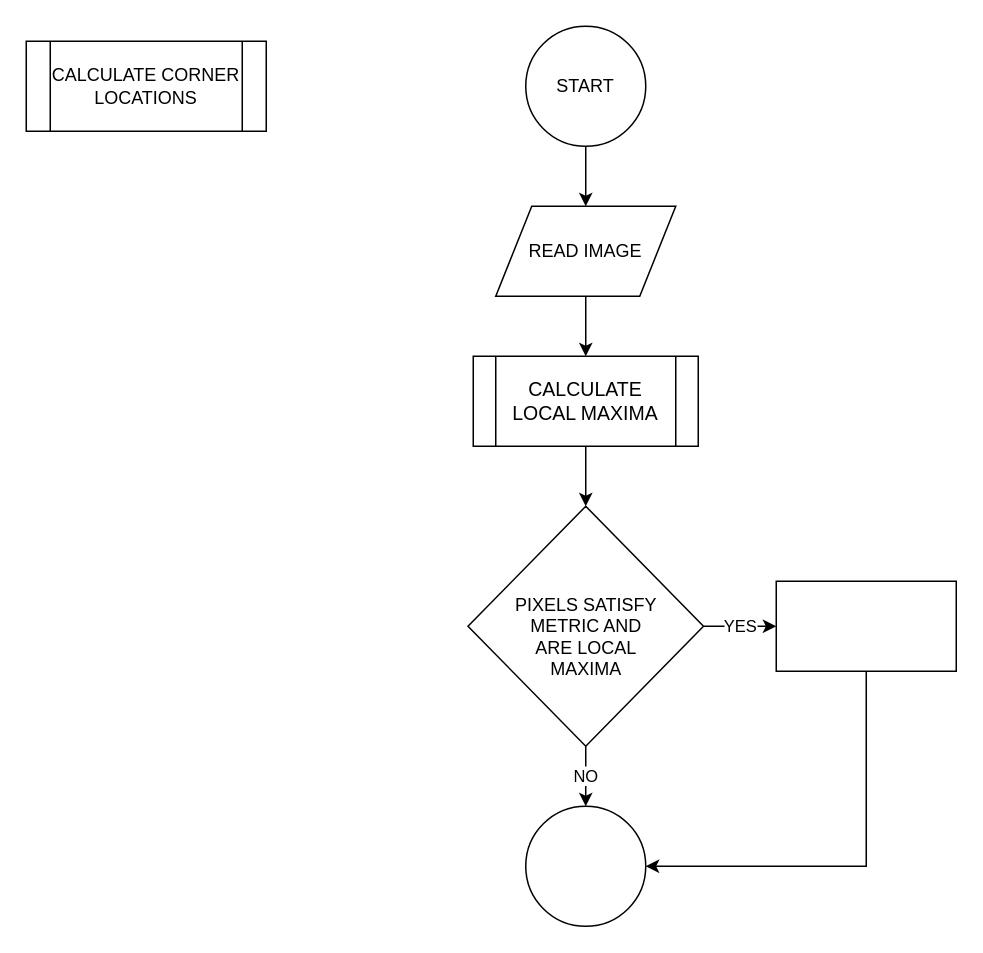
The diagram is 983 pixels wide and 953 high, and some of its shapes have lost their labels. Here are the shapes that lost their labels. From the top down, the centre of each, then its label:
At (865,625): "REMEMBER PIXEL LOCATIONS".
At (585,865): "RETURN CORNER LOCATIONS".
